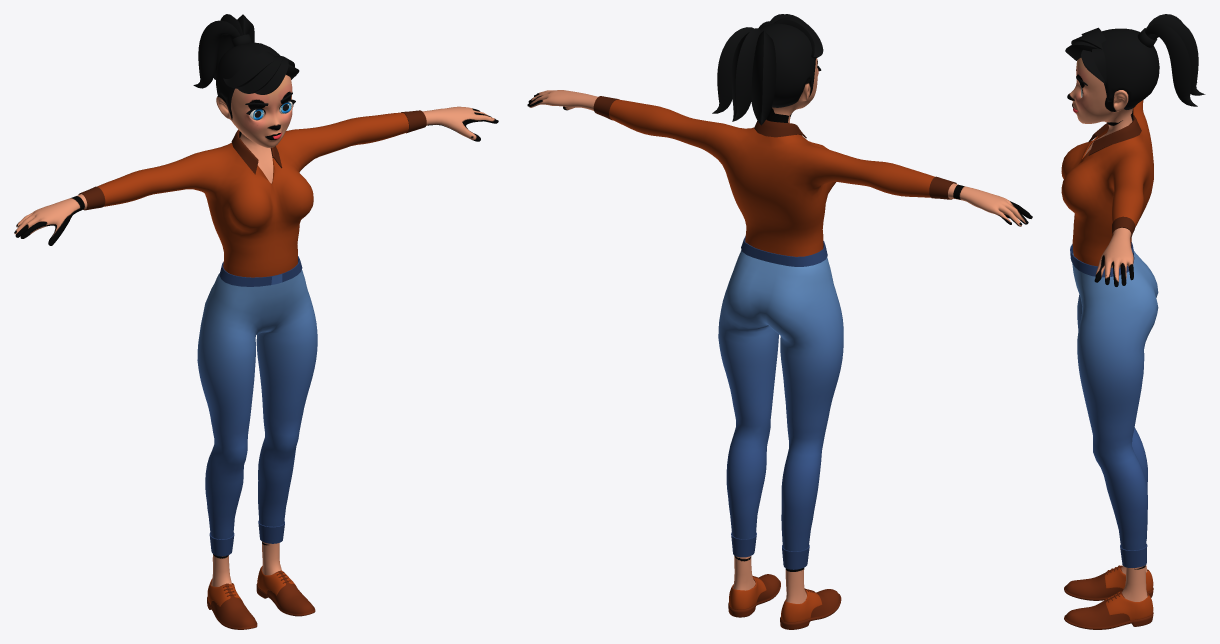
Rendered from uploads_files_3931012_Character_1.fbx.
3 renders of one model, left to right at view 1: azimuth 30°, elevation 25°; view 2: azimuth 150°, elevation 25°; view 3: azimuth 270°, elevation 25°, orthographic. The views are drawn at different scales.
Visible parts, largest first — view 1: D_3, D_1, Body, Hair, Shoes; view 2: D_3, D_1, Hair, Body, Shoes; view 3: D_3, D_1, Hair, Body, Shoes.
Boxes of the visible parts, x1,y1,x2,y2 form: D_3: [197, 256, 317, 556]; D_1: [78, 110, 426, 277]; Body: [14, 75, 498, 586]; Hair: [193, 14, 299, 111]; Shoes: [207, 566, 315, 629]; D_3: [718, 236, 843, 569]; D_1: [593, 96, 956, 256]; Hair: [712, 14, 823, 125]; Body: [527, 58, 1032, 603]; Shoes: [728, 574, 841, 629]; D_3: [1070, 242, 1158, 567]; D_1: [1061, 100, 1153, 266]; Hair: [1065, 14, 1205, 109]; Body: [1067, 58, 1147, 601]; Shoes: [1064, 565, 1153, 629].
Bounding box in the file's own units: 655 × 751 × 166.
